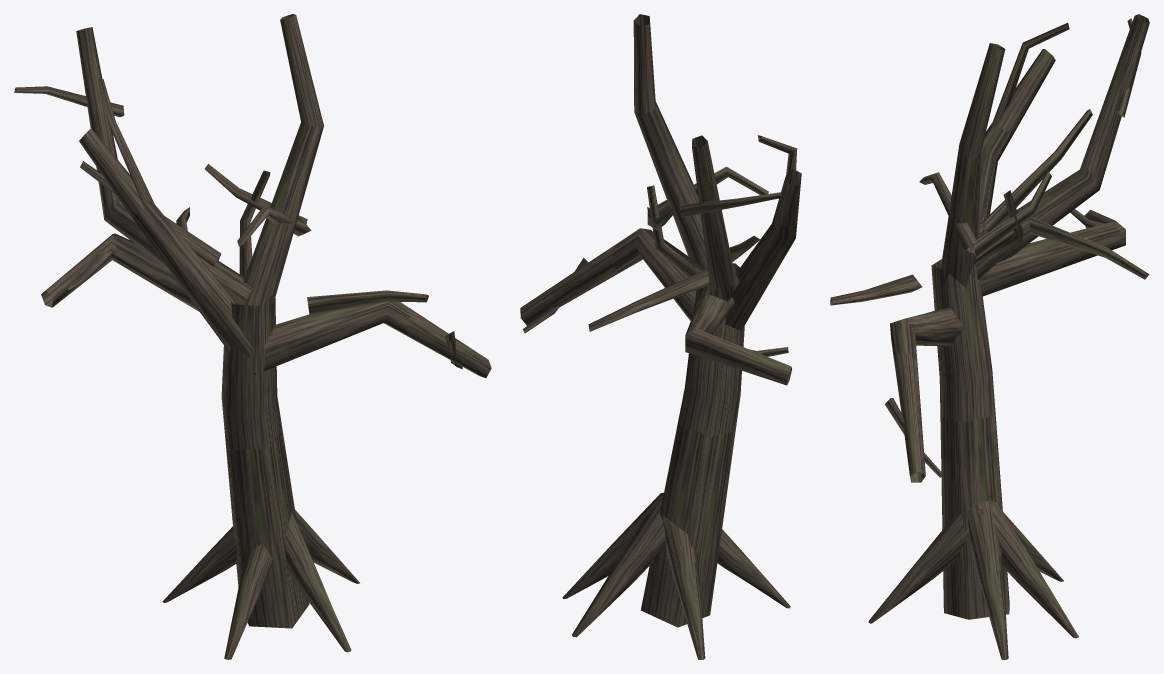
Rendered from DeadTree_2_LOD1.gltf.
3 renders of one model, left to right at view 1: azimuth 30°, elevation 25°; view 2: azimuth 150°, elevation 25°; view 3: azimuth 270°, elevation 25°, orthographic. The views are drawn at different scales.
Visible parts, largest first — view 1: DeadTree_2_LOD1; view 2: DeadTree_2_LOD1; view 3: DeadTree_2_LOD1.
Boxes of the visible parts, left/top/right/bottom form: DeadTree_2_LOD1: left=14, top=14, right=491, bottom=659; DeadTree_2_LOD1: left=520, top=14, right=801, bottom=659; DeadTree_2_LOD1: left=830, top=14, right=1149, bottom=659.
Bounding box in the file's own units: 7.2 × 11.07 × 5.53.
Materials: 1 (1 with a texture image).
